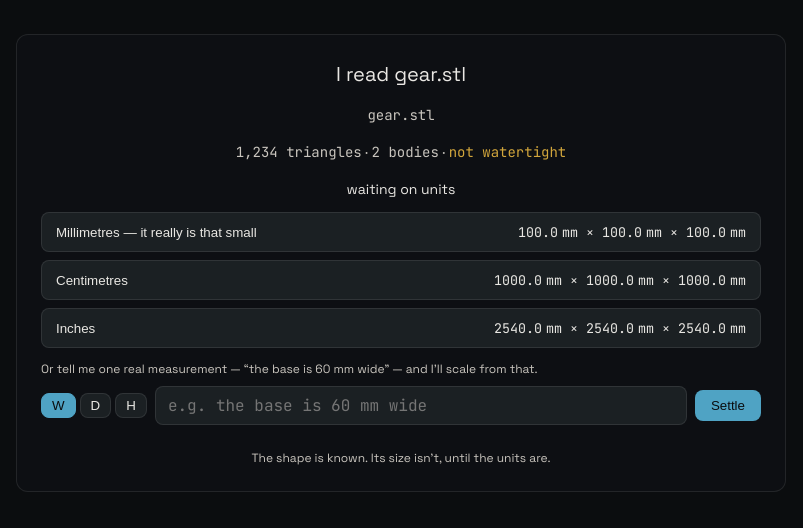
Scenario: ImportReport — settlement (issue #334, D8) › a failed settle shows its detail verbatim and changes nothing (no refetch)
This screenshot has width=803, height=528.
Click the button with test id "import-report-option-mm" at (156, 232), box [41,212,761,252]
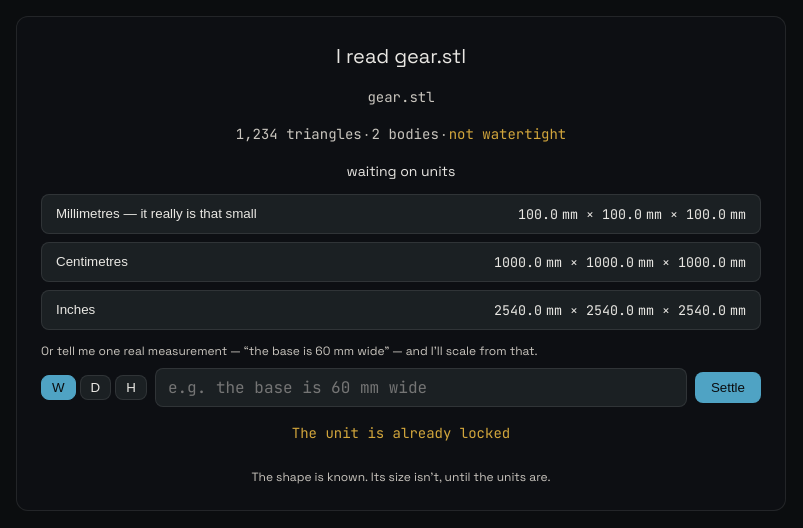
Result: the message with test id "import-report-settle-error" reads "The unit is already locked" at [292,424,510,442]
